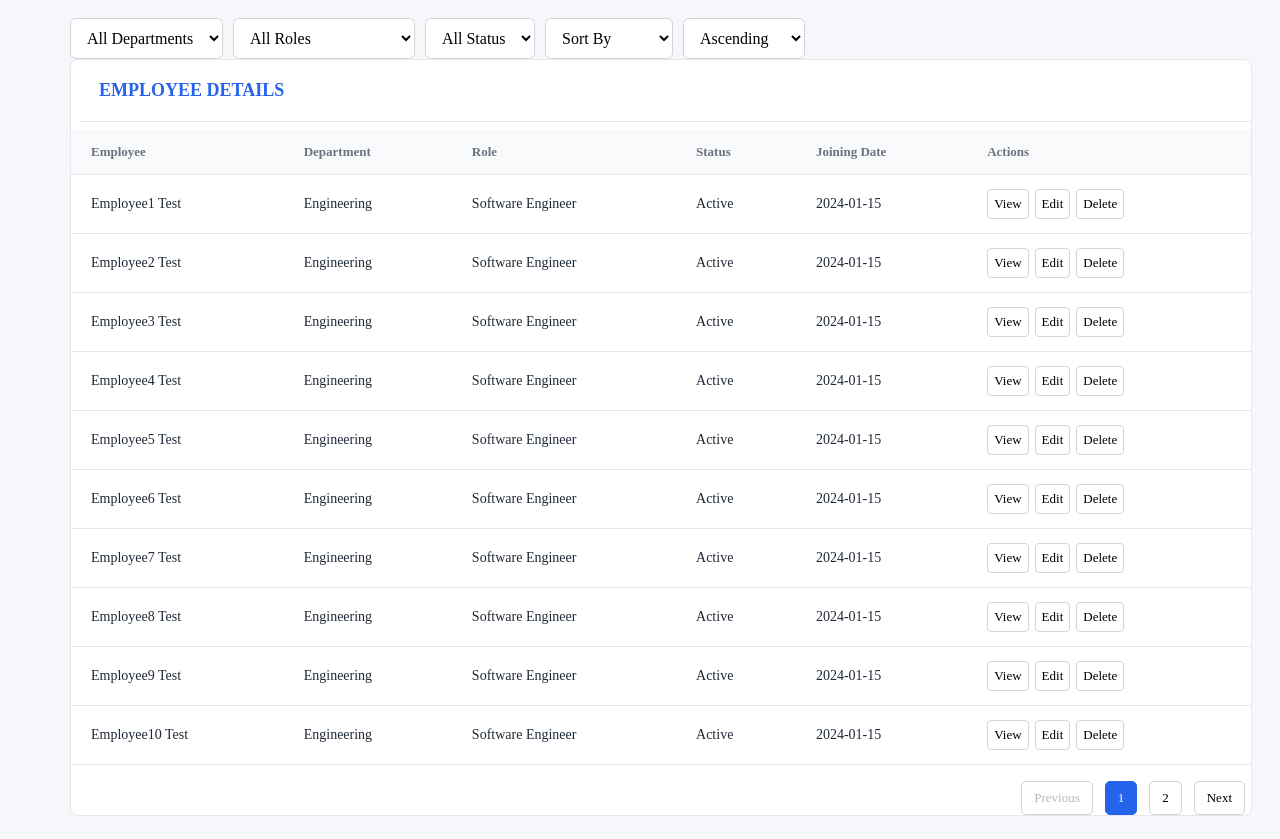
Test: Pagination › should move to the previous page when Previous is clicked
(page scrolled)
Expected: the text "Employee1 Test" is shown, [71,174,284,234]
What coordinates should you click on to do the following:
click the button "Next"
I would click on:
 (1219, 798)
Its box is [1194,781,1245,815].
(page scrolled)
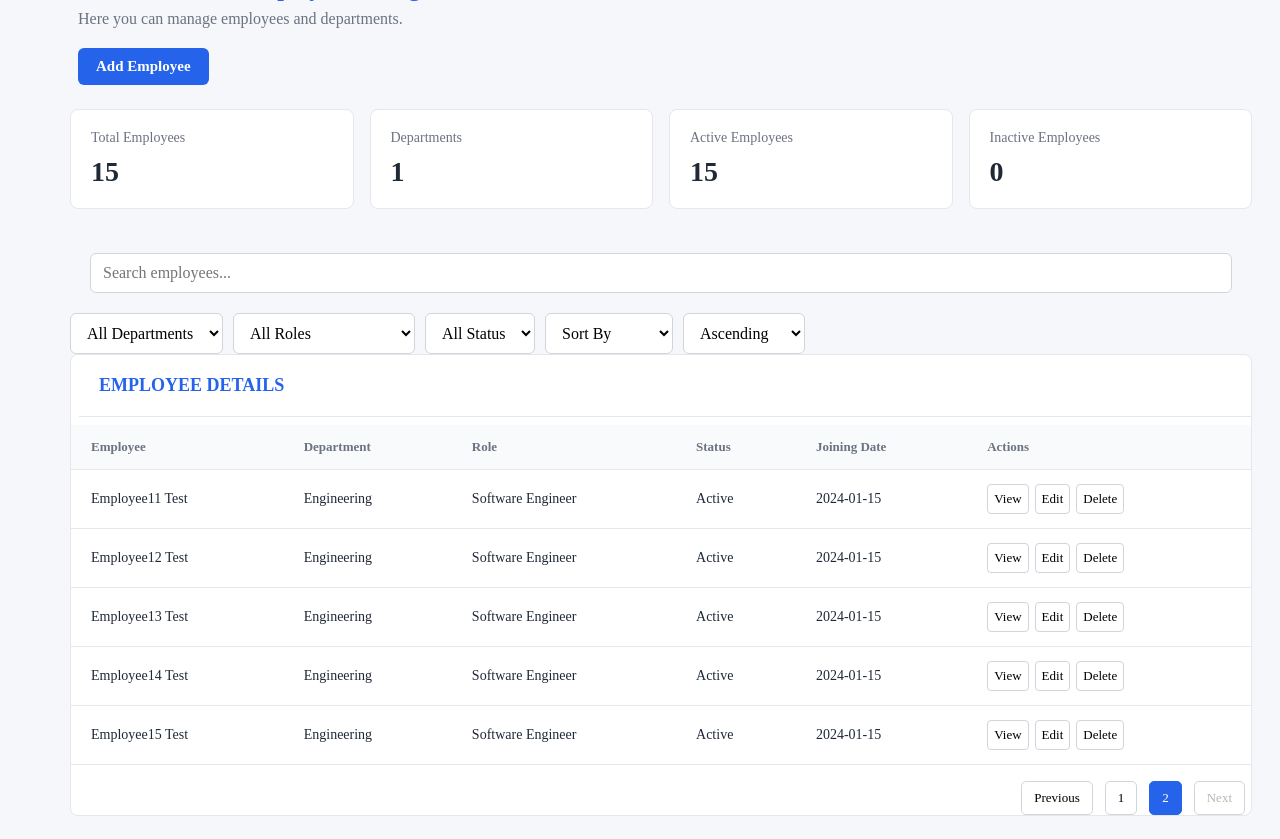
Now the text "Employee11 Test" is shown, box [71,470,284,528]
What coordinates should you click on to do the following:
click the button "Previous"
I would click on:
 (1057, 798)
Its box is [1021,781,1093,815].
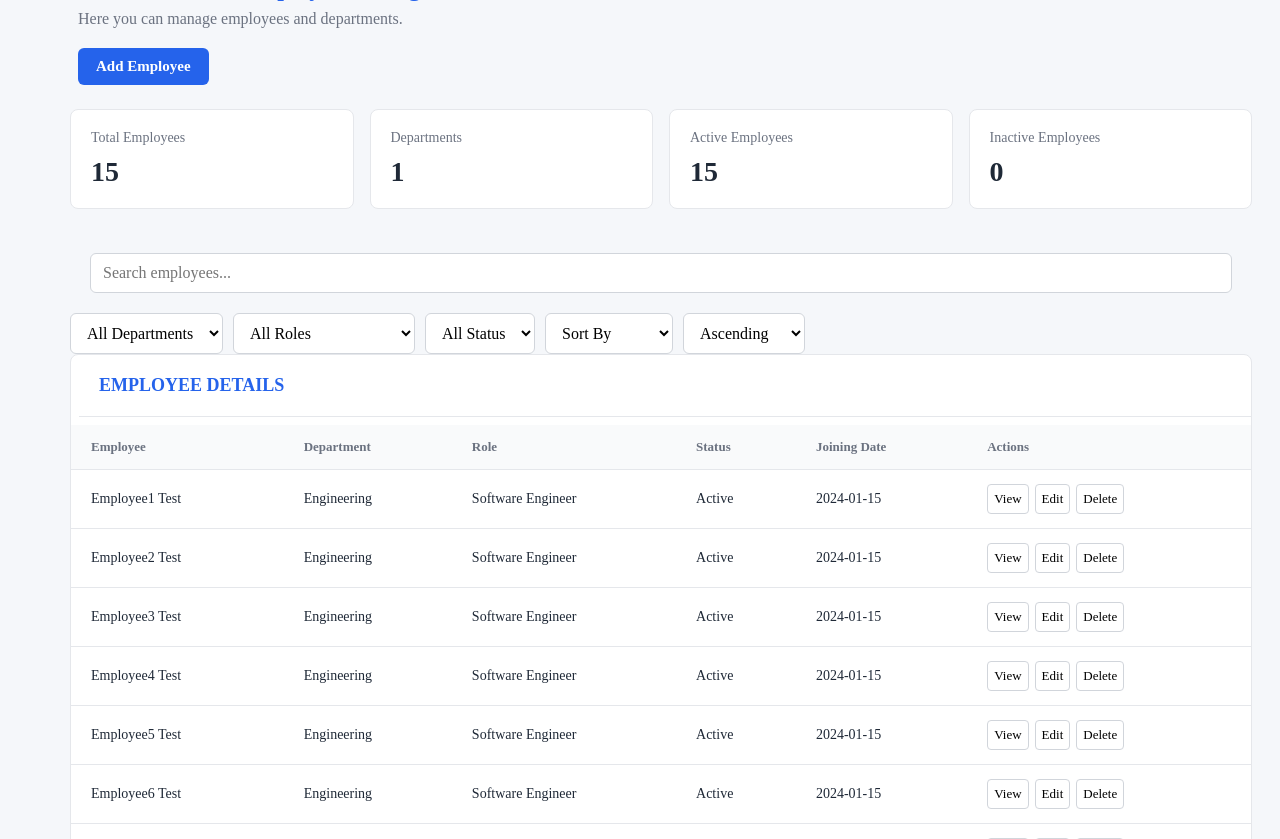
Now the text "Employee1 Test" is shown, box [71,470,284,528]
Now the text "Employee11 Test" is gone
